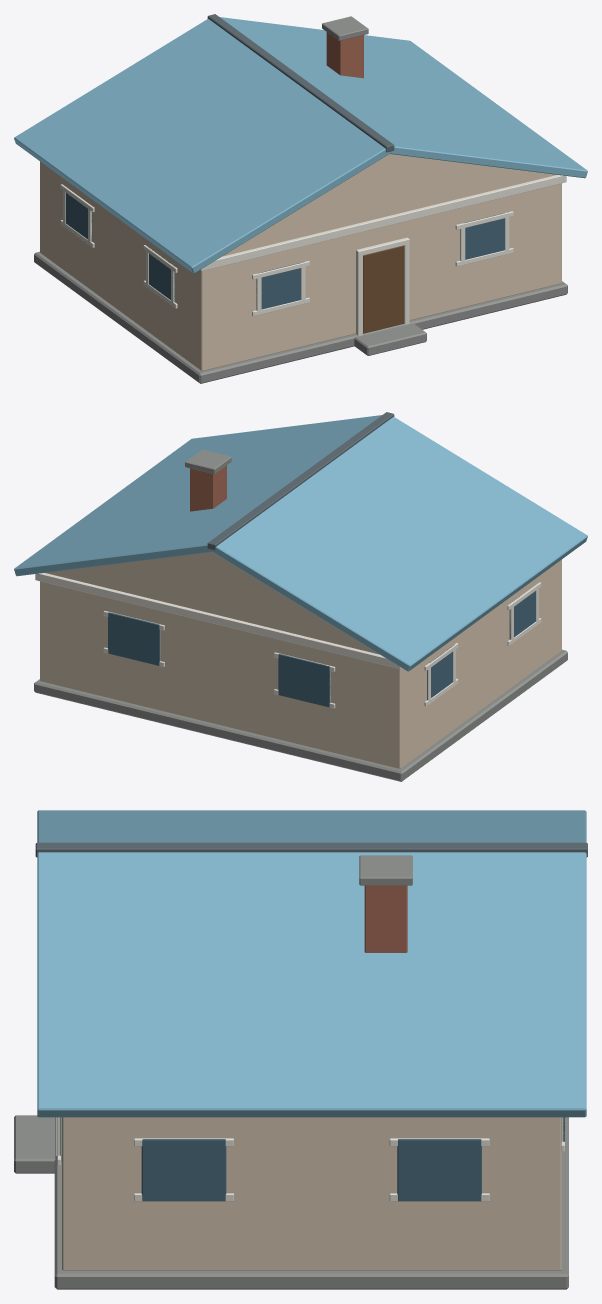
The model's file is normal_house_2.glb.
3 views of the same model, one above another, from view 1: azimuth 30°, elevation 25°; view 2: azimuth 150°, elevation 25°; view 3: azimuth 270°, elevation 25° (orthographic). The views are drawn at different scales.
Parts seen in each view (by area): view 1: FTF_House_OneStory_RoofLightBlue_Mesh; view 2: FTF_House_OneStory_RoofLightBlue_Mesh; view 3: FTF_House_OneStory_RoofLightBlue_Mesh.
Part boxes in pixels (x1,y1,x2,y2): FTF_House_OneStory_RoofLightBlue_Mesh: [14, 14, 587, 383]; FTF_House_OneStory_RoofLightBlue_Mesh: [14, 412, 587, 781]; FTF_House_OneStory_RoofLightBlue_Mesh: [14, 810, 587, 1289].
Bounding box in the file's own units: 11.89 × 6.26 × 9.66.
